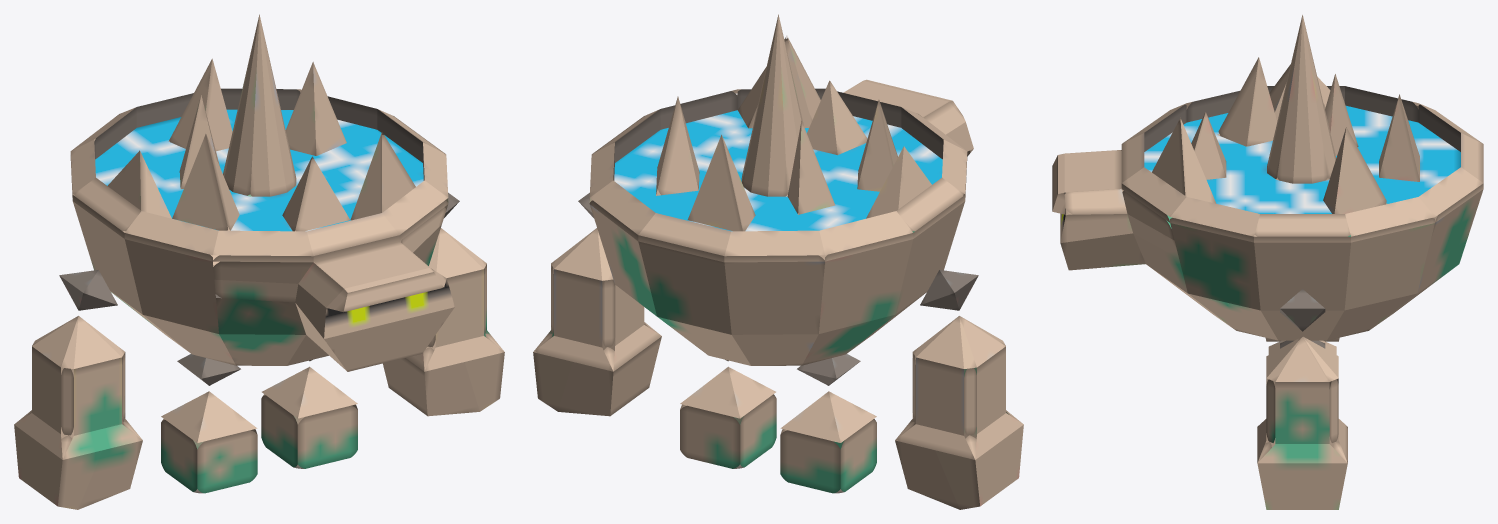
Rendered from stalagmus.obj.
The picture shows the model from 3 angles, left to right: view 1: azimuth 30°, elevation 25°; view 2: azimuth 150°, elevation 25°; view 3: azimuth 270°, elevation 25°; orthographic projection. The views are drawn at different scales.
Visible parts, largest first — view 1: sphere; view 2: sphere; view 3: sphere.
Part boxes in pixels (bbox=[...]): sphere: bbox=[14, 14, 504, 509]; sphere: bbox=[533, 14, 1023, 509]; sphere: bbox=[1052, 15, 1483, 509].
Bounding box in the file's own units: 1 × 0.9687 × 0.9062.
1 material, 1 textured.
